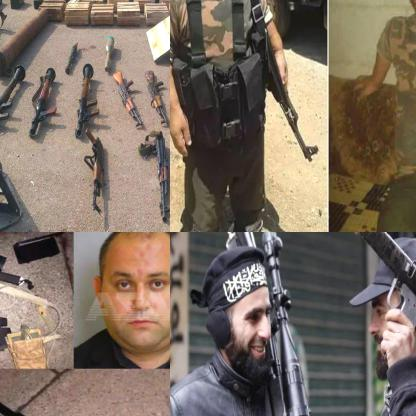rifle: (240, 232, 415, 415), (214, 232, 311, 415), (0, 375, 169, 415), (262, 58, 320, 168), (136, 130, 169, 223), (28, 68, 60, 138), (81, 126, 104, 218), (73, 62, 100, 138), (0, 64, 27, 138), (111, 70, 142, 128), (141, 69, 169, 129)
